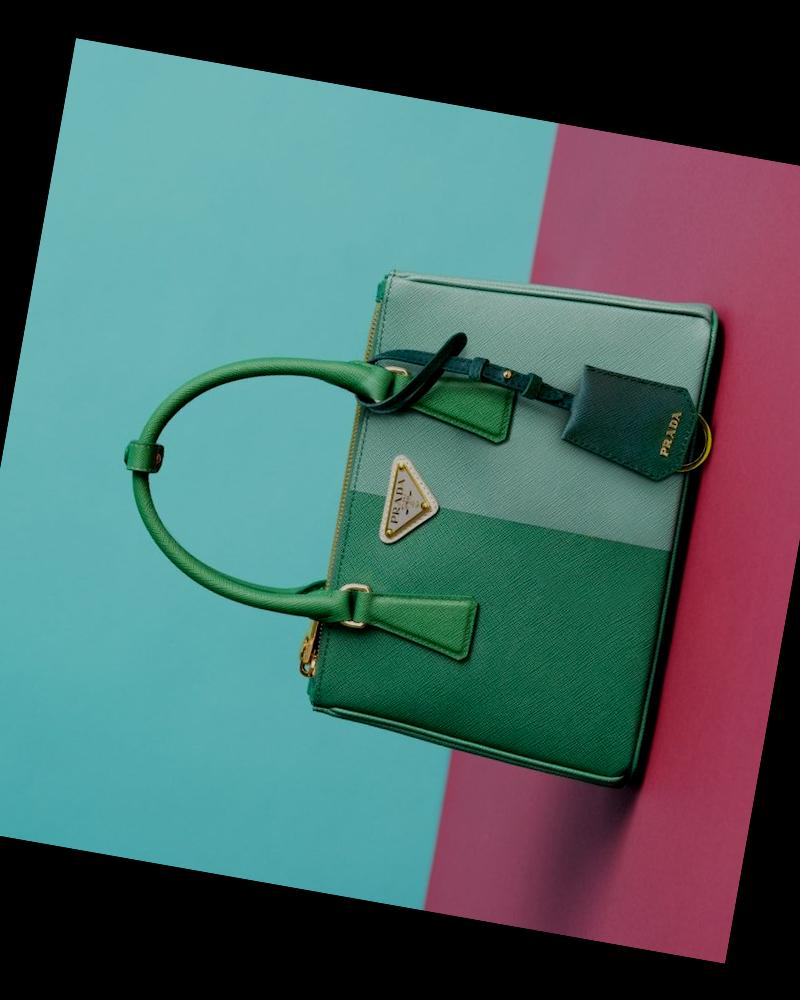PRADA: (382, 460, 436, 542)
